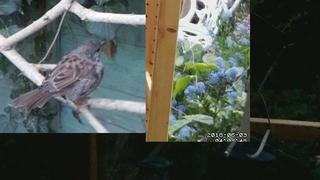dunnock: (8, 40, 106, 113)
